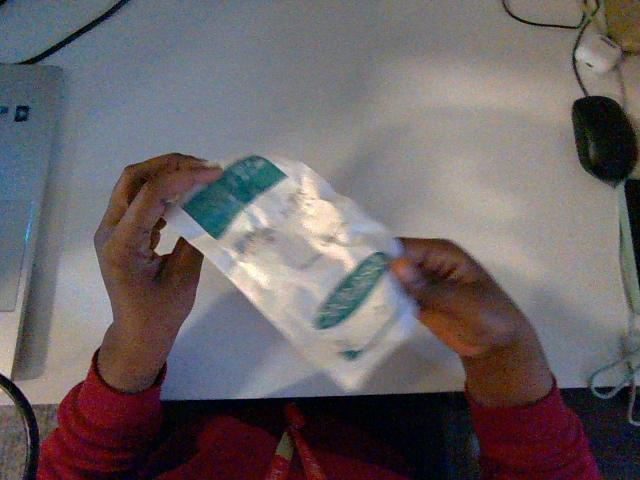gallipot: (169, 156, 412, 389)
